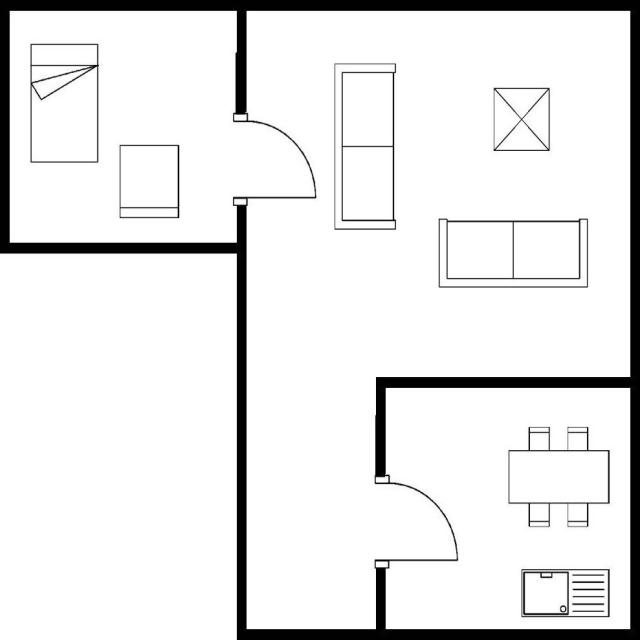bed: (26, 39, 101, 165)
coffee_table: (491, 84, 552, 155)
dining_table: (505, 422, 613, 531)
large_sofa: (331, 59, 400, 234), (433, 215, 590, 291)
sink: (516, 565, 612, 622)
small_sofa: (115, 141, 182, 221)
